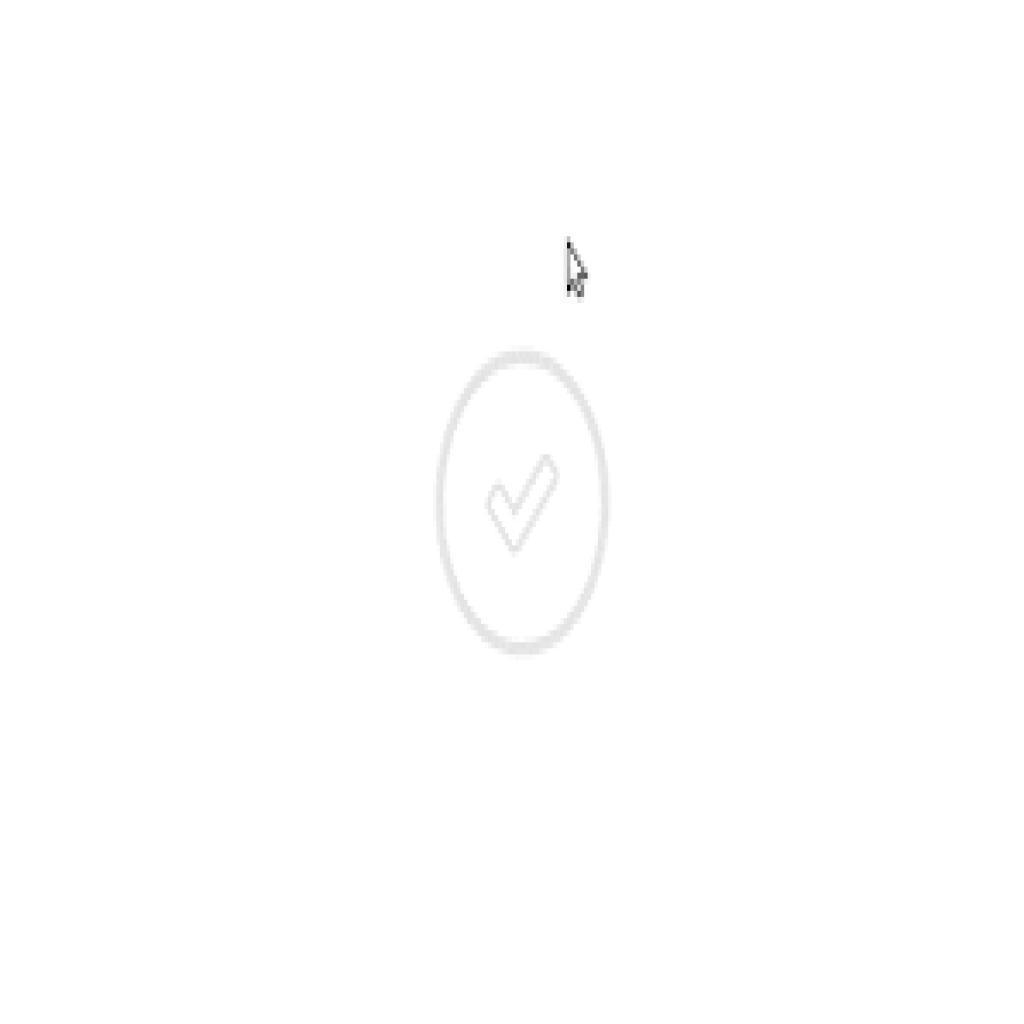checkbox: (424, 336, 620, 670)
